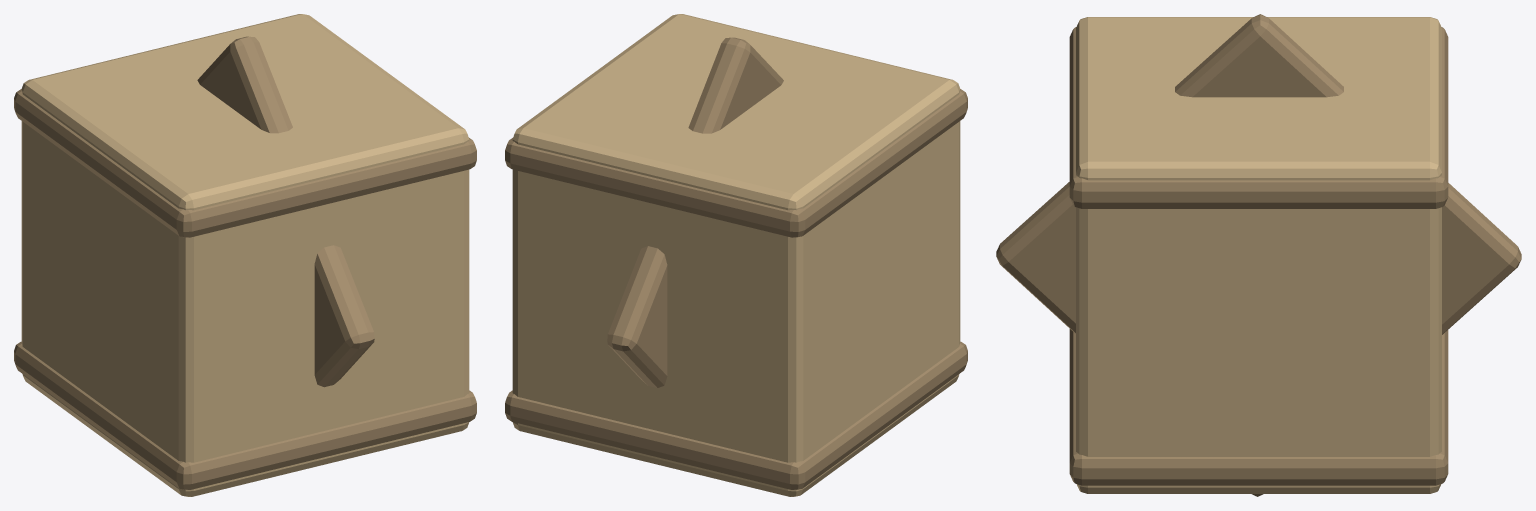
The model's file is crate.glb.
3 renders of one model, left to right at view 1: azimuth 30°, elevation 25°; view 2: azimuth 150°, elevation 25°; view 3: azimuth 270°, elevation 25°, orthographic. The views are drawn at different scales.
Visible parts, largest first — view 1: crate; view 2: crate; view 3: crate.
Boxes of the visible parts, x1=… form: crate: x1=14, y1=14, x2=476, y2=496; crate: x1=505, y1=14, x2=967, y2=496; crate: x1=996, y1=14, x2=1521, y2=496.
Size of the model in its own units: 0.62 by 0.8602 by 0.8602.
